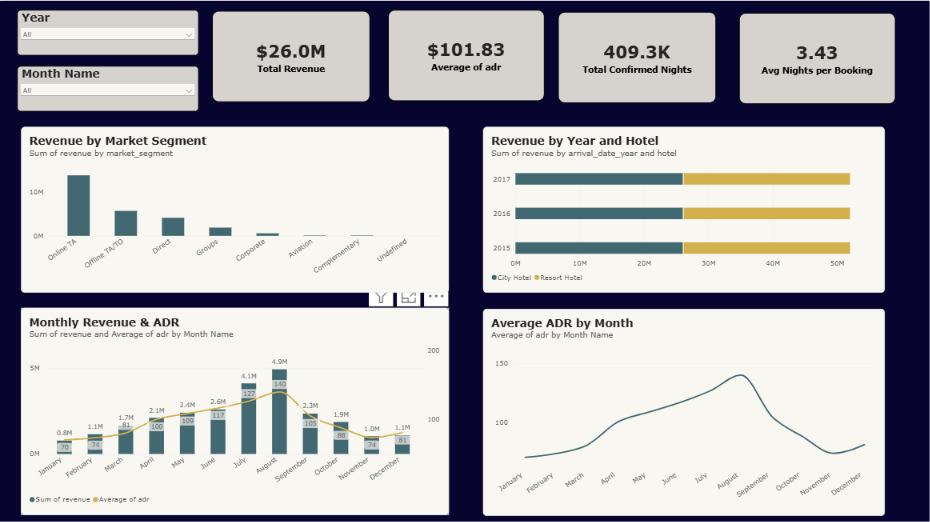

This screenshot's page, from the dashboard's own definition file:
{"tool":"powerbi","page":{"name":"Revenue & Seasonality","canvas":[1920,1080],"ordinal":2},"visuals":[{"type":"card","fields":{"Values":["Sum(hotel_bookings_main.total_nights)"]},"box":[1148.5,22.6,325.7,188.2],"z":0},{"type":"card","fields":{"Values":["Avg(hotel_bookings_main.total_nights)"]},"box":[1521.1,24.7,322.1,188.2],"z":1000},{"type":"slicer","fields":{"Values":["hotel_bookings_main.arrival_date_year"]},"box":[34,18,374,94],"z":2000},{"type":"slicer","fields":{"Values":["Month Order.Month Name"]},"box":[34,134,374,94],"z":3000},{"type":"lineClusteredColumnComboChart","title":"Monthly Revenue & ADR","fields":{"Category":["Month Order.Month Name"],"Y":["Sum(hotel_bookings_main.revenue)"],"Y2":["Avg(hotel_bookings_main.adr)"]},"box":[43.2,631.9,881,426.1],"z":4000},{"type":"card","fields":{"Values":["Sum(hotel_bookings_main.revenue)"]},"box":[436.4,20.6,325.7,188.2],"z":5000},{"type":"card","fields":{"Values":["Avg(hotel_bookings_main.adr)"]},"box":[798.6,18.5,322.1,188.2],"z":6000},{"type":"barChart","title":"Revenue by Year and Hotel","fields":{"Category":["monthly_summary.arrival_date_year"],"Series":["monthly_summary.hotel"],"Y":["Sum(hotel_bookings_main.revenue)"]},"box":[994.2,259.3,827.4,341.7],"z":7000},{"type":"clusteredColumnChart","title":"Revenue by Market Segment","fields":{"Category":["hotel_bookings_main.market_segment"],"Y":["Sum(hotel_bookings_main.revenue)"]},"box":[43.2,259.3,881,341.7],"z":7001},{"type":"lineChart","title":"Average ADR by Month","fields":{"Category":["Month Order.Month Name"],"Y":["Avg(hotel_bookings_main.adr)"]},"box":[994.2,634,827.4,426.1],"z":7002}]}

Visuals, with their boxes in screenshot pixels (x1, y1, x2, y2), scaled from the page's 1920x1080 canvas onto the 930x522 screenshot:
card - Sum(hotel_bookings_main.total_nights): <bbox>556, 11, 714, 102</bbox>
card - Avg(hotel_bookings_main.total_nights): <bbox>737, 12, 893, 103</bbox>
slicer - hotel_bookings_main.arrival_date_year: <bbox>16, 9, 198, 54</bbox>
slicer - Month Order.Month Name: <bbox>16, 65, 198, 110</bbox>
"Monthly Revenue & ADR" lineClusteredColumnComboChart: <bbox>21, 305, 448, 511</bbox>
card - Sum(hotel_bookings_main.revenue): <bbox>211, 10, 369, 101</bbox>
card - Avg(hotel_bookings_main.adr): <bbox>387, 9, 543, 100</bbox>
"Revenue by Year and Hotel" barChart: <bbox>482, 125, 882, 290</bbox>
"Revenue by Market Segment" clusteredColumnChart: <bbox>21, 125, 448, 290</bbox>
"Average ADR by Month" lineChart: <bbox>482, 306, 882, 512</bbox>
